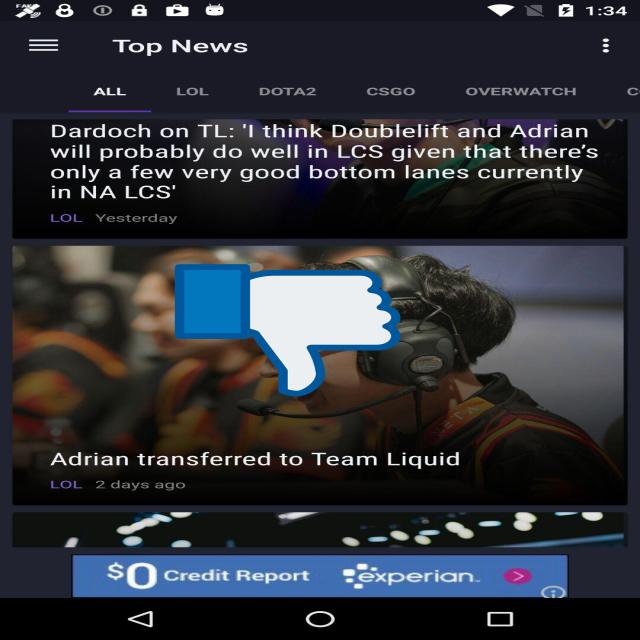obstruction: (174, 262, 400, 399)
